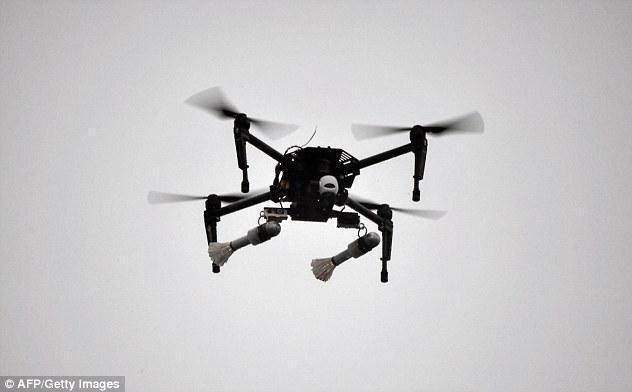UAV: (200, 110, 432, 285)
